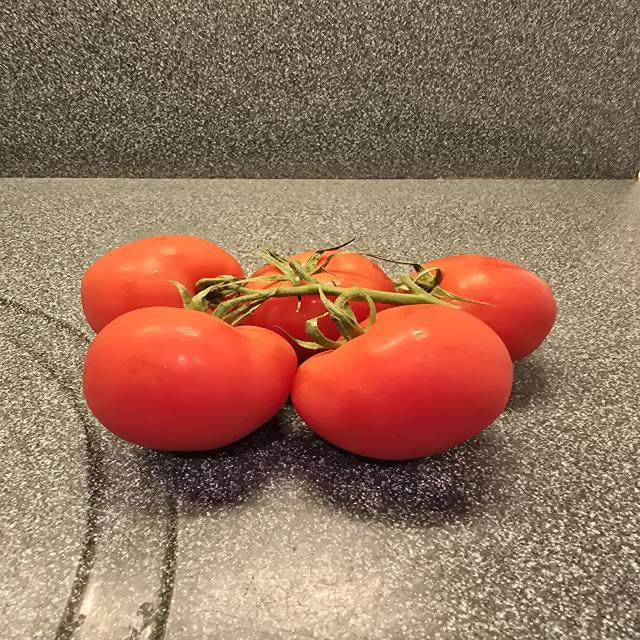Tomato: (292, 305, 513, 460), (83, 307, 297, 451), (81, 235, 243, 334), (414, 255, 556, 361)
